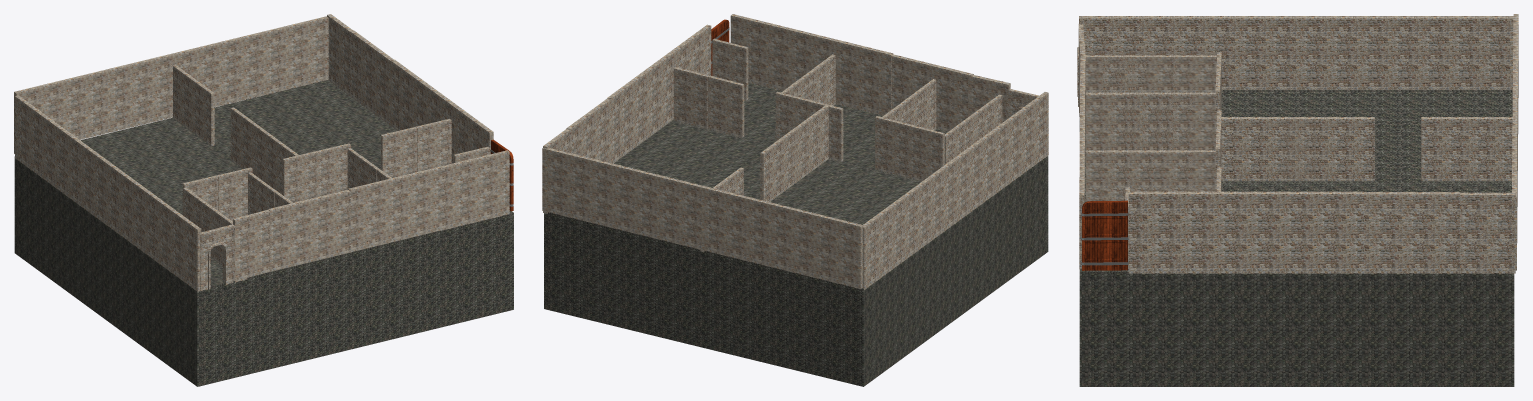
Rendered from map_renaud.obj.
3 views of the same model, side by side, from view 1: azimuth 30°, elevation 25°; view 2: azimuth 150°, elevation 25°; view 3: azimuth 270°, elevation 25° (orthographic). The views are drawn at different scales.
Parts seen in each view (by area): view 1: FloorBox, Box001.001, Box001.008, Box001.005, Box001.006, Box001.002, Box001.003, Box001.026_Box001.001, Box001.007, Box001.004, Box001.013_Box001.022, Box001 (+12 smaller); view 2: FloorBox, Box001.001, Box001.008, Box001.005, Box001.002, Box001.006, Box001.003, Box001.029_Box001.003, Box001.026_Box001.000, Box001.026_Box001.037, Box001.013_Box001.022, Box001.029_Box001.000 (+14 smaller); view 3: FloorBox, Box001.008, Box001.002, Box001.003, Box001.026_Box001.037, Box001.026_Box001.001, Box001.026_Box001.000, Box001.004, DoorLeft, Box001.018_Box001.005, Box001.018_Box001.003, Box001.018_Box001.008 (+11 smaller).
Boxes of the visible parts, bbox=[...] form: FloorBox: bbox=[14, 80, 513, 386]; Box001.001: bbox=[14, 16, 328, 153]; Box001.008: bbox=[15, 95, 201, 291]; Box001.005: bbox=[348, 150, 509, 252]; Box001.006: bbox=[268, 190, 350, 271]; Box001.002: bbox=[390, 59, 493, 163]; Box001.003: bbox=[350, 30, 399, 130]; Box001.026_Box001.001: bbox=[172, 65, 214, 146]; Box001.007: bbox=[233, 210, 270, 282]; Box001.004: bbox=[327, 14, 352, 96]; Box001.013_Box001.022: bbox=[415, 118, 451, 171]; Box001: bbox=[200, 224, 234, 291]; FloorBox: bbox=[544, 82, 1048, 386]; Box001.001: bbox=[542, 147, 862, 288]; Box001.008: bbox=[862, 92, 1048, 289]; Box001.005: bbox=[730, 14, 893, 115]; Box001.002: bbox=[607, 24, 711, 158]; Box001.006: bbox=[891, 54, 973, 131]; Box001.003: bbox=[566, 93, 619, 163]; Box001.029_Box001.003: bbox=[708, 75, 744, 137]; Box001.026_Box001.000: bbox=[760, 132, 798, 201]; Box001.026_Box001.037: bbox=[786, 105, 828, 180]; Box001.013_Box001.022: bbox=[673, 67, 709, 129]; Box001.029_Box001.000: bbox=[875, 116, 910, 177]; FloorBox: bbox=[1079, 90, 1514, 386]; Box001.008: bbox=[1079, 16, 1513, 89]; Box001.002: bbox=[1128, 191, 1363, 273]; Box001.003: bbox=[1364, 192, 1459, 273]; Box001.026_Box001.037: bbox=[1221, 117, 1315, 181]; Box001.026_Box001.001: bbox=[1421, 117, 1512, 181]; Box001.026_Box001.000: bbox=[1280, 117, 1374, 181]; Box001.004: bbox=[1460, 192, 1515, 273]; DoorLeft: bbox=[1080, 200, 1128, 270]; Box001.018_Box001.005: bbox=[1085, 92, 1129, 150]; Box001.018_Box001.003: bbox=[1173, 92, 1215, 150]; Box001.018_Box001.008: bbox=[1085, 150, 1129, 201].
Size of the model in its own units: 514 by 252 by 520.
